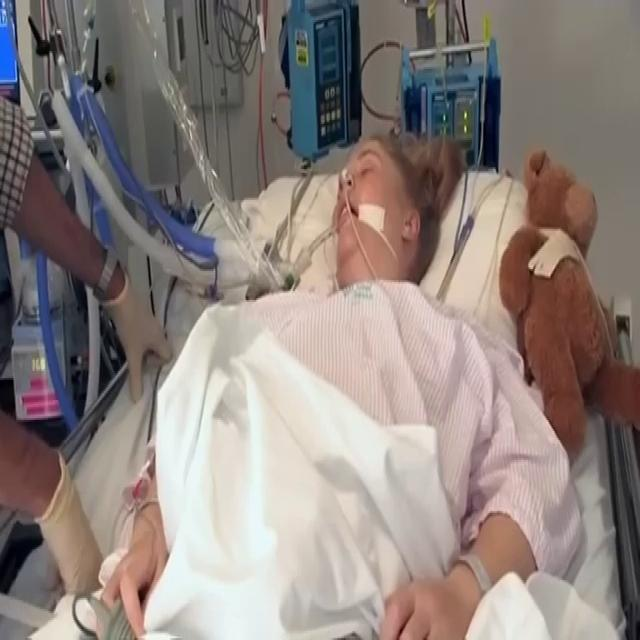doctor: (0, 84, 172, 602)
monitor: (0, 0, 20, 105)
patient: (95, 127, 582, 638)
